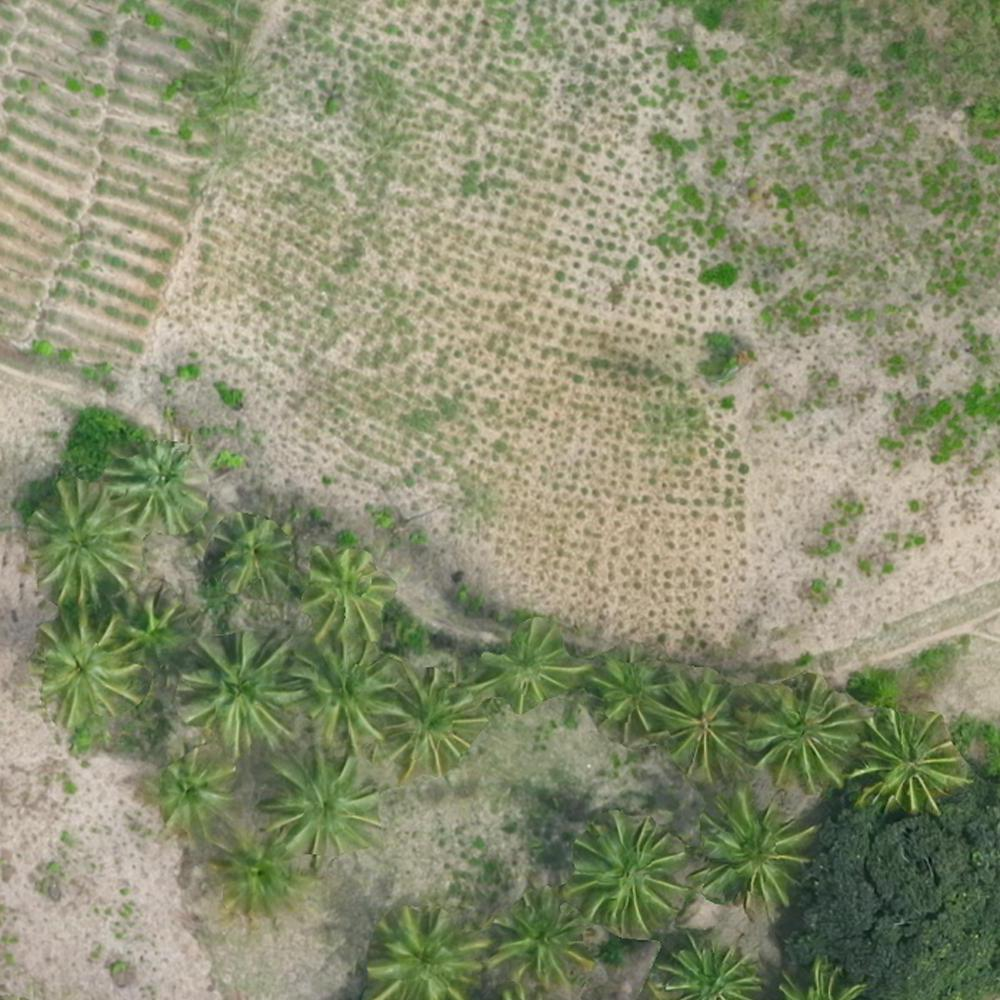Palm: (258, 745, 380, 861), (184, 629, 300, 749), (692, 793, 813, 906), (570, 813, 691, 925), (745, 679, 860, 789), (30, 479, 140, 593), (372, 667, 482, 778), (287, 640, 398, 747), (38, 609, 141, 721), (860, 706, 964, 811), (367, 909, 486, 1000), (487, 891, 595, 983), (646, 668, 746, 767), (479, 614, 582, 708), (300, 546, 395, 642), (108, 438, 201, 531), (205, 514, 293, 602), (654, 931, 763, 1000), (212, 830, 297, 915), (157, 751, 241, 835), (583, 648, 668, 730), (121, 588, 194, 665)
